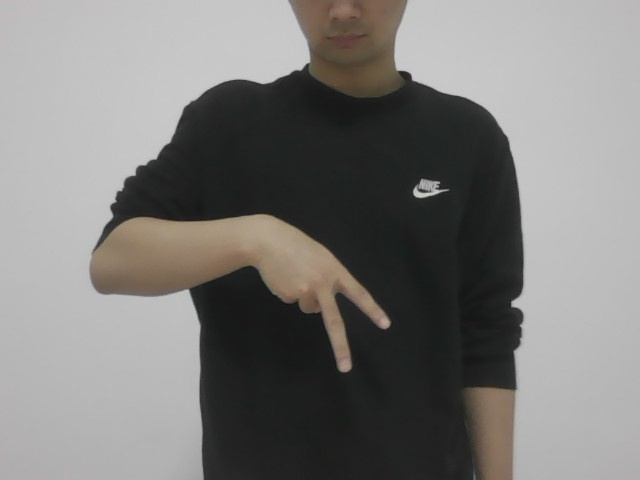walk: (249, 209, 397, 382)
